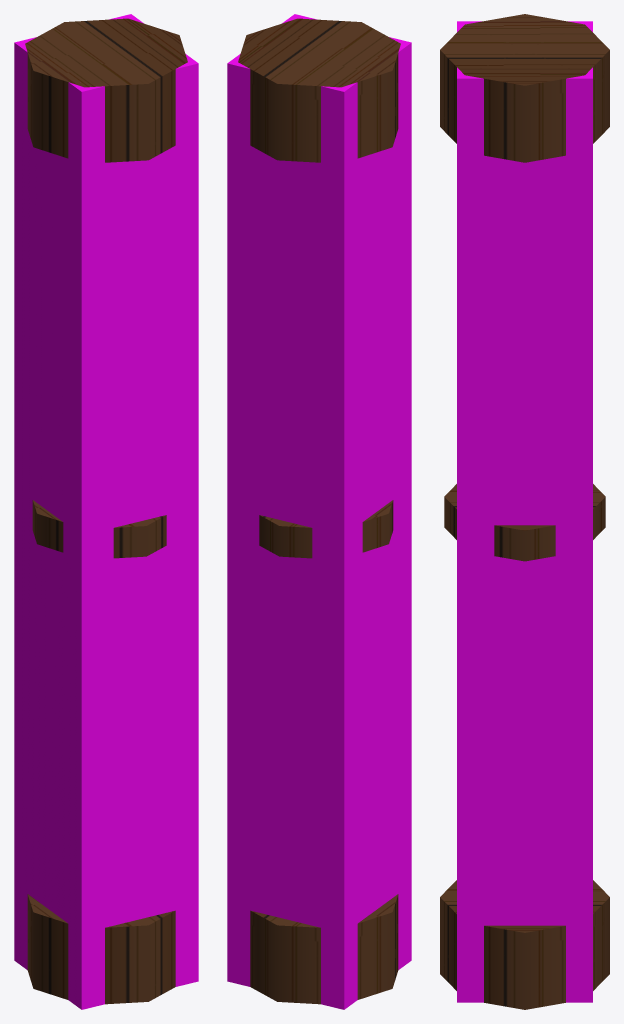
File: tiang.glb
3 views of the same model, side by side, from view 1: azimuth 30°, elevation 25°; view 2: azimuth 150°, elevation 25°; view 3: azimuth 270°, elevation 25° (orthographic).
Visible parts, largest first — view 1: col_tiang, tiang_body; view 2: col_tiang, tiang_body; view 3: col_tiang, tiang_body.
Part boxes in pixels (bbox=[...]): col_tiang: bbox=[14, 14, 198, 1009]; tiang_body: bbox=[25, 18, 187, 1004]; col_tiang: bbox=[227, 14, 411, 1009]; tiang_body: bbox=[238, 18, 400, 1004]; col_tiang: bbox=[457, 21, 592, 1002]; tiang_body: bbox=[440, 14, 609, 1009].
Bounding box in the file's own units: 0.4 × 2.4 × 0.4.
2 materials, 1 textured.
